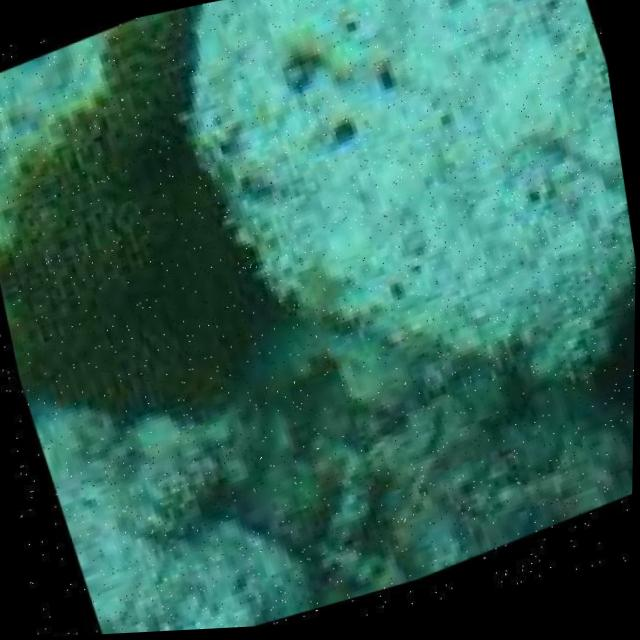Dead Coral: (0, 0, 283, 471)
